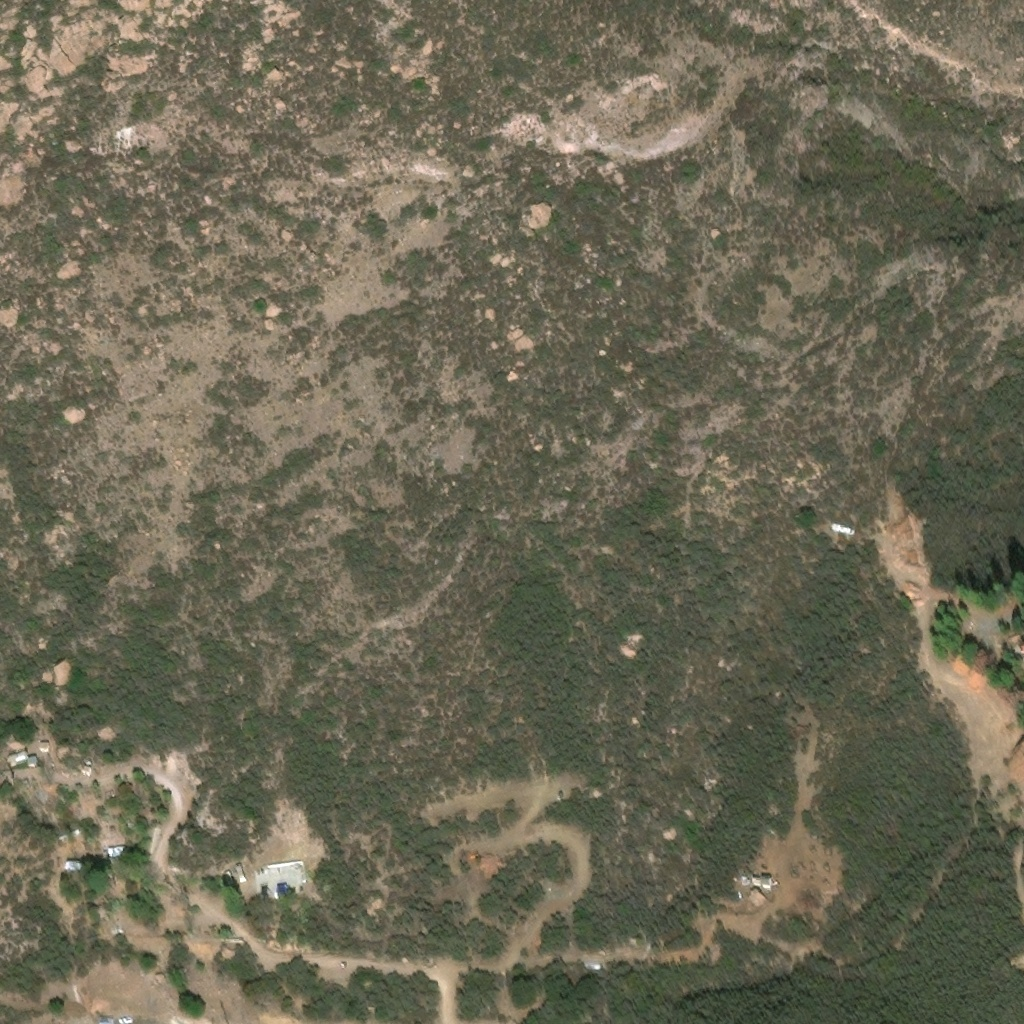4 un-classified: (255, 862, 305, 906), (109, 849, 130, 866), (7, 754, 29, 769), (236, 866, 247, 885), (68, 865, 86, 876), (224, 874, 237, 888), (752, 896, 765, 910), (761, 882, 775, 893), (42, 746, 51, 754), (31, 763, 39, 771), (87, 764, 93, 770)
